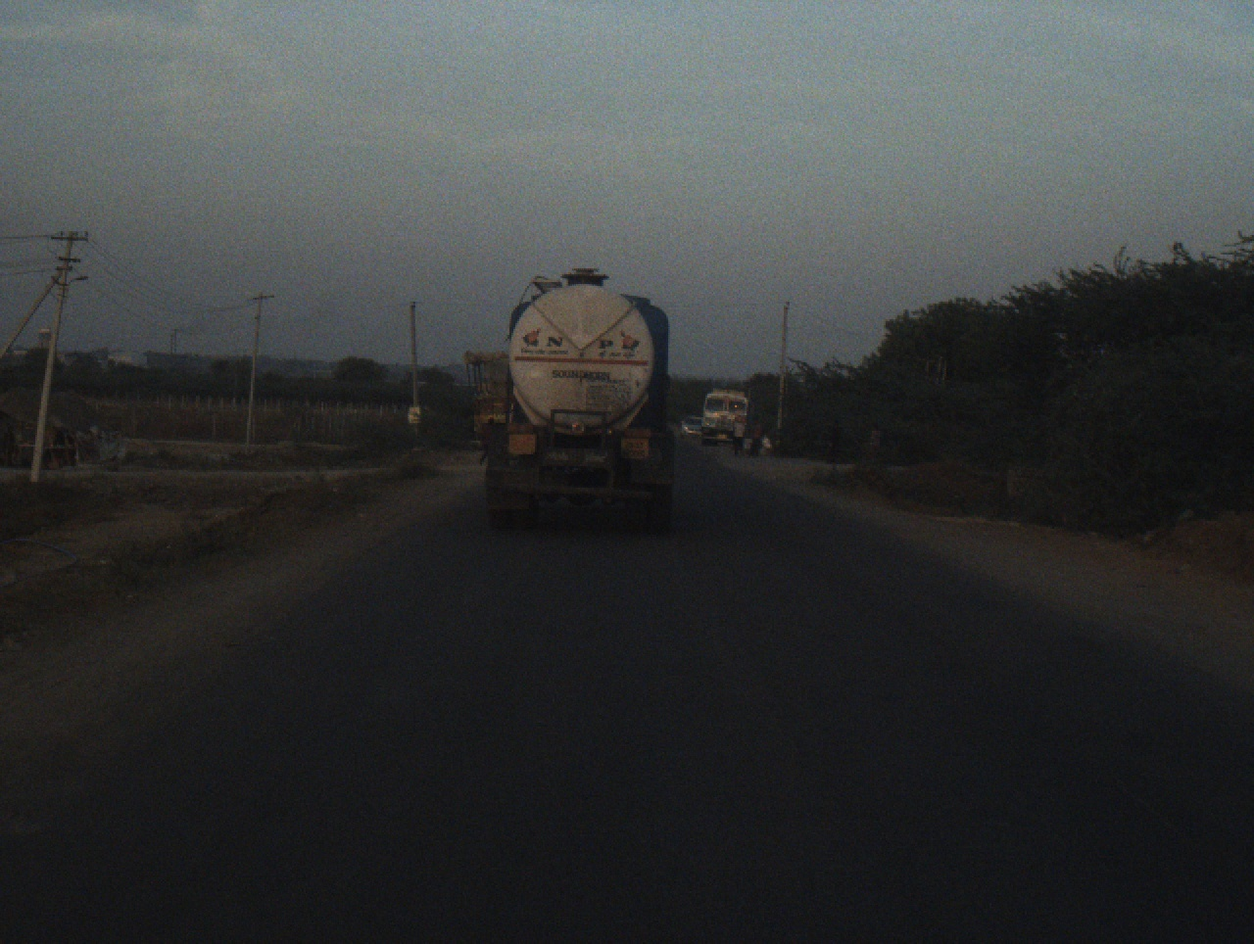car: (678, 411, 703, 433)
person: (730, 407, 746, 452)
truck: (481, 261, 682, 537), (465, 345, 518, 454), (703, 379, 745, 446)
